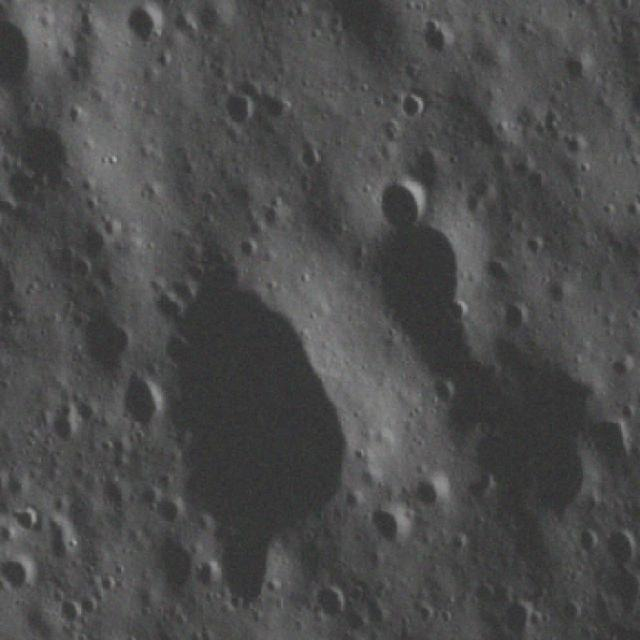crater: (129, 261, 373, 559), (435, 328, 591, 522), (338, 198, 494, 336), (361, 166, 441, 234), (71, 302, 134, 378), (9, 114, 74, 184), (111, 365, 167, 432), (148, 532, 200, 596), (582, 406, 632, 472), (364, 502, 414, 558), (304, 578, 358, 624), (120, 6, 172, 52), (416, 12, 459, 58), (494, 593, 540, 636), (490, 292, 533, 336), (1, 554, 42, 598), (600, 519, 634, 570), (396, 82, 433, 128), (154, 487, 188, 536), (220, 90, 258, 132), (415, 472, 453, 513), (557, 49, 597, 86), (521, 167, 557, 204), (560, 128, 594, 166), (538, 272, 572, 310), (229, 226, 262, 262), (573, 522, 605, 558), (484, 251, 513, 289), (11, 502, 40, 538), (258, 198, 288, 232), (298, 140, 327, 174), (94, 571, 126, 600), (74, 590, 103, 618)
